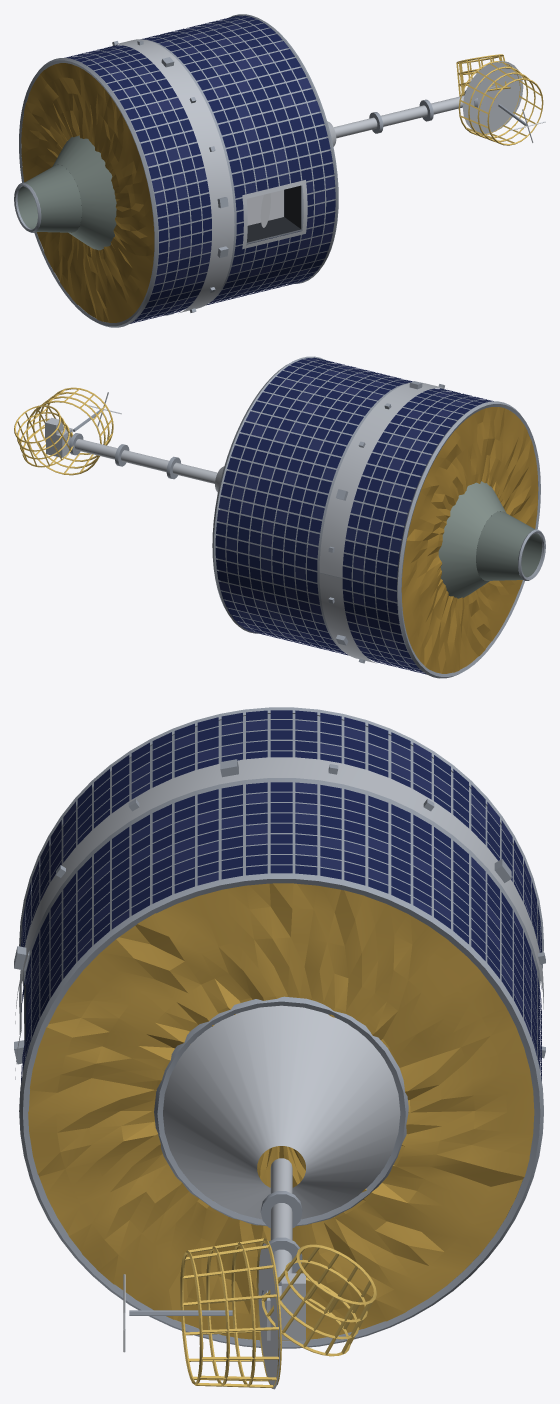
File: fengyun-2.glb
3 views of the same model, one above another, from view 1: azimuth 30°, elevation 25°; view 2: azimuth 150°, elevation 25°; view 3: azimuth 270°, elevation 25° (orthographic). The views are drawn at different scales.
Visible parts, largest first — view 1: body, solar-panel, foil; view 2: solar-panel, body, foil; view 3: foil, body, solar-panel.
Part boxes in pixels (x1,y1,x2,y2): body: [14, 14, 545, 327]; solar-panel: [64, 15, 335, 323]; foil: [21, 54, 543, 322]; solar-panel: [215, 357, 493, 674]; body: [45, 356, 545, 678]; foil: [14, 387, 538, 673]; foil: [28, 883, 534, 1388]; body: [14, 707, 545, 1389]; solar-panel: [21, 710, 541, 1082].
Bounding box in the file's own units: 4.44 × 2.18 × 2.17.
